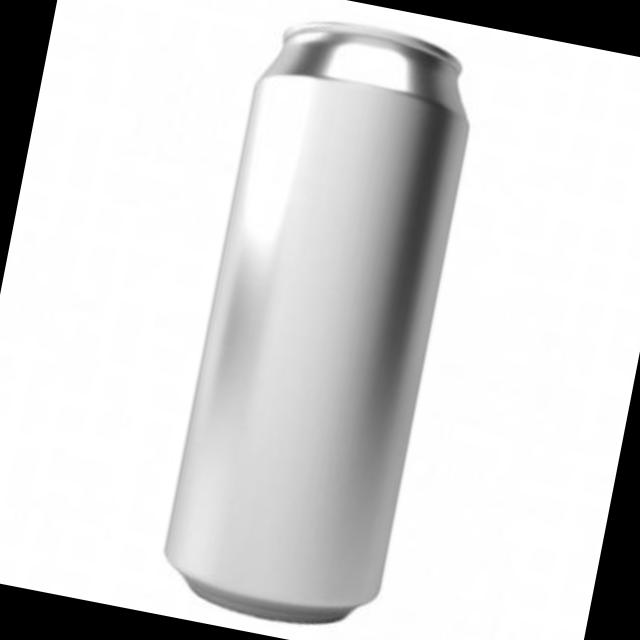metal: (168, 20, 469, 618)
